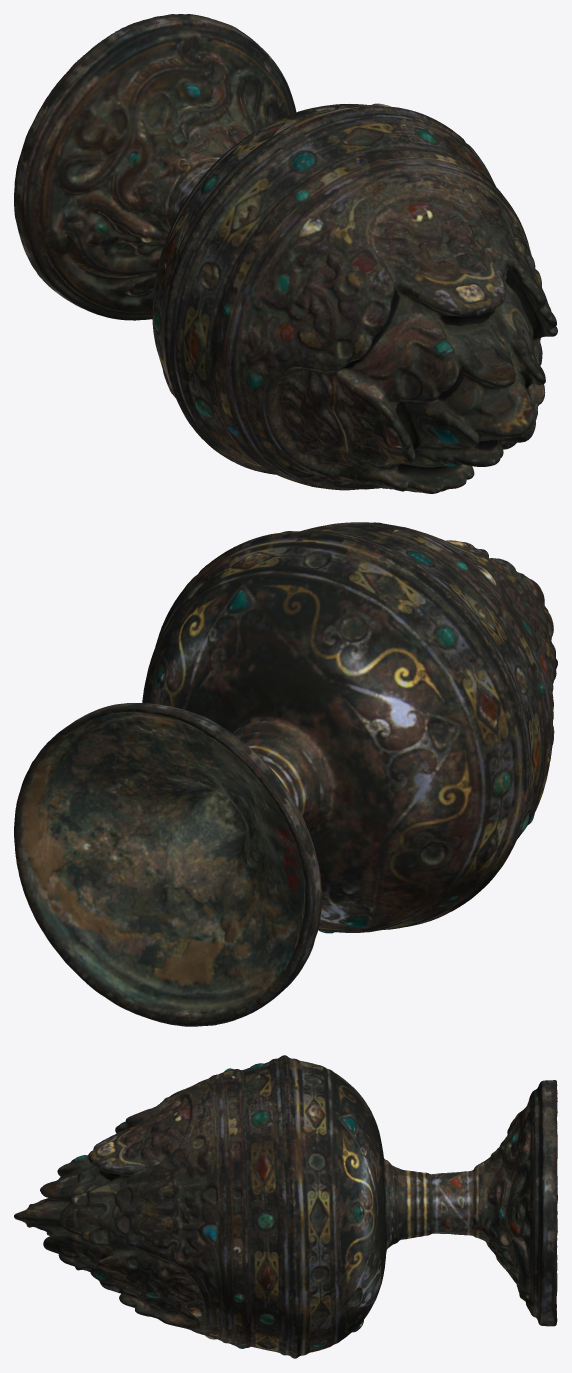
File: preview.glb
The picture shows the model from 3 angles, top to bottom: view 1: azimuth 30°, elevation 25°; view 2: azimuth 150°, elevation 25°; view 3: azimuth 270°, elevation 25°; orthographic projection. The views are drawn at different scales.
Bounding box in the file's own units: 101 × 99.98 × 179.
1 material, 1 textured.
